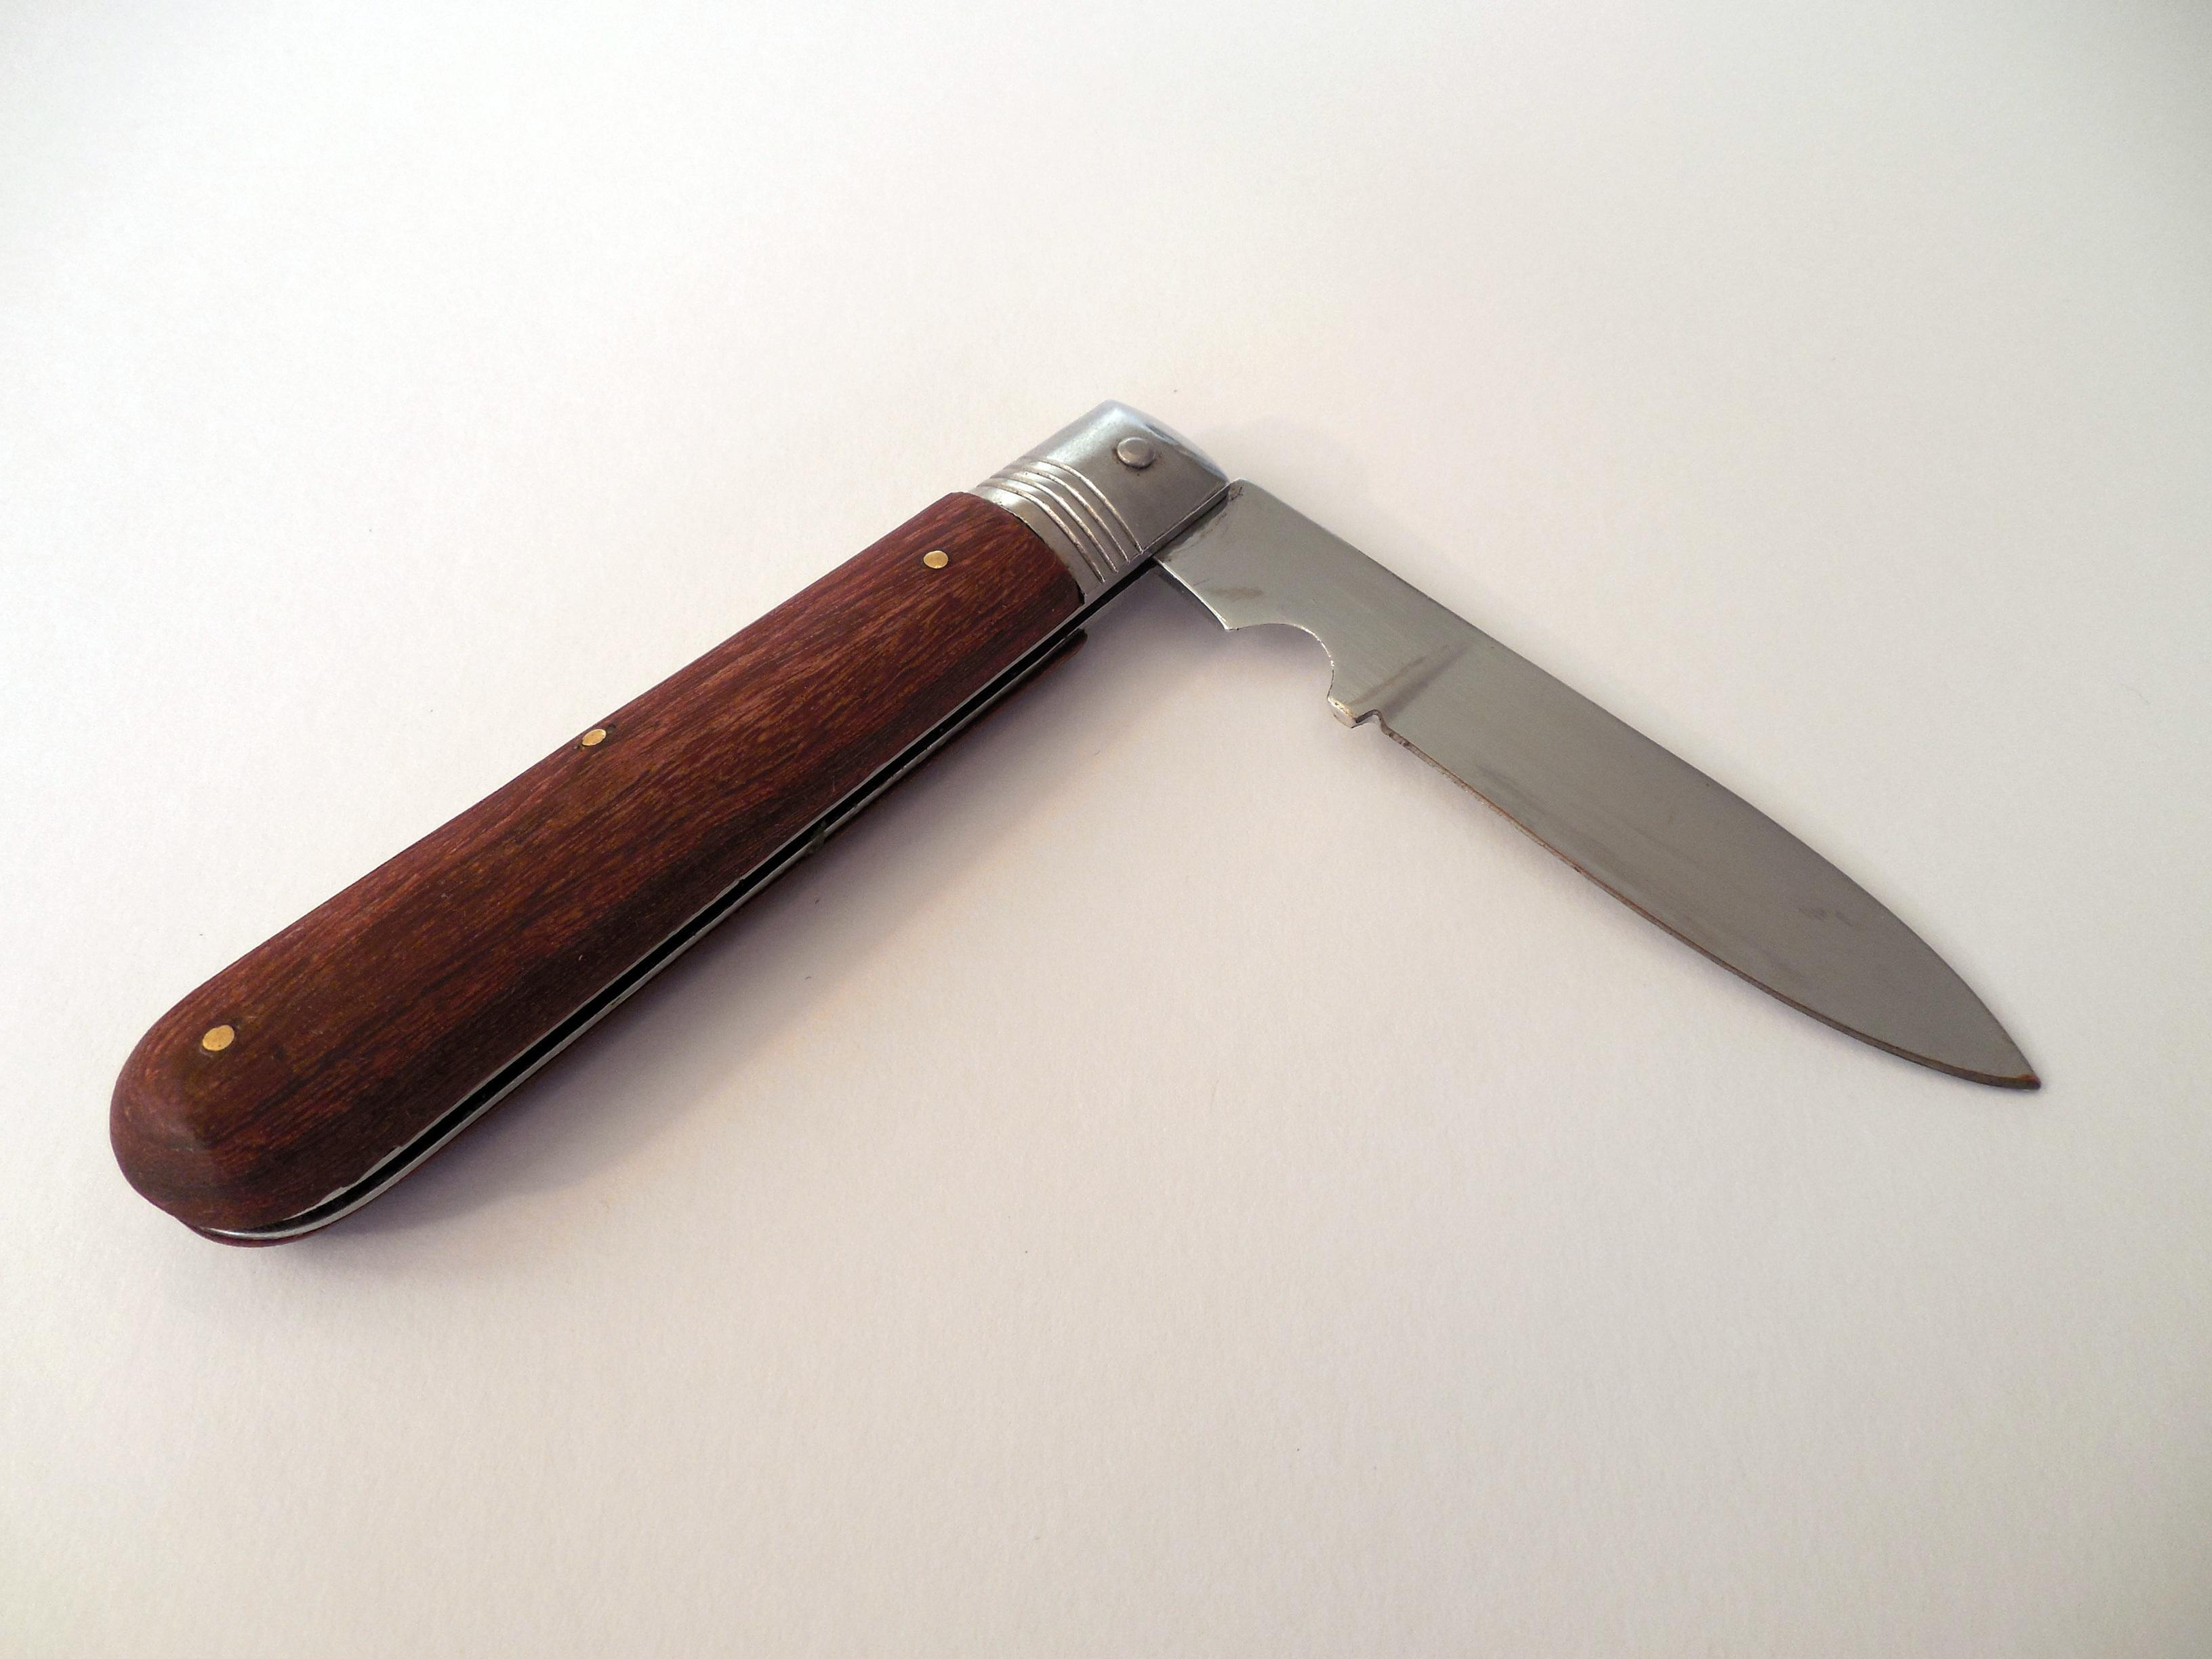faca: (111, 403, 2034, 1241)
